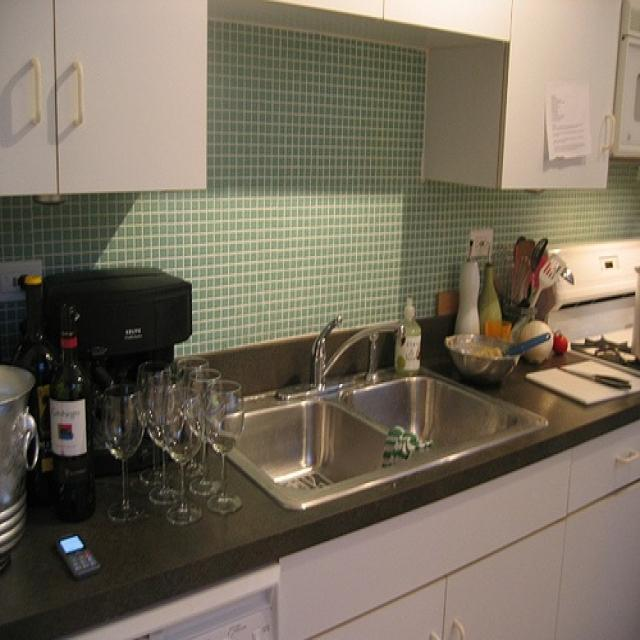bottle: (9, 272, 54, 498), (50, 302, 95, 517), (394, 295, 421, 374)
